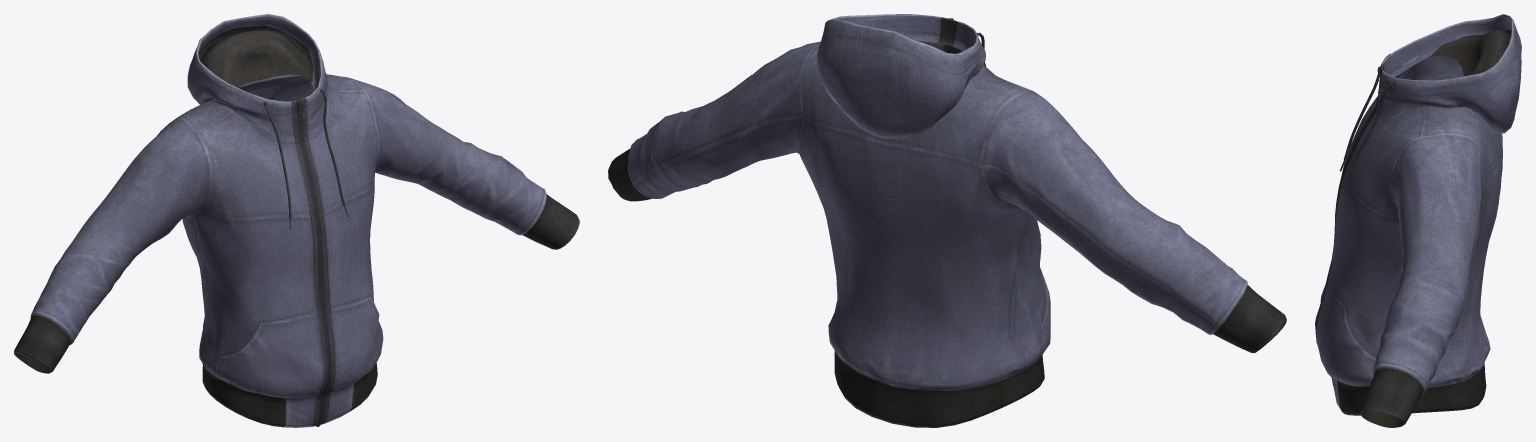
3 renders of one model, left to right at view 1: azimuth 30°, elevation 25°; view 2: azimuth 150°, elevation 25°; view 3: azimuth 270°, elevation 25°, orthographic. The views are drawn at different scales.
Visible parts, largest first — view 1: Torso_low, Lace_low; view 2: Torso_low; view 3: Torso_low, Lace_low.
Boxes of the visible parts, x1,y1,x2,y2 form: Torso_low: [14, 14, 579, 427]; Lace_low: [263, 89, 349, 231]; Torso_low: [608, 14, 1286, 427]; Torso_low: [1315, 14, 1521, 427]; Lace_low: [1338, 53, 1395, 200].
Size of the model in its own units: 5.56 by 3.32 by 1.66.
Materials: 1 (1 with a texture image).
